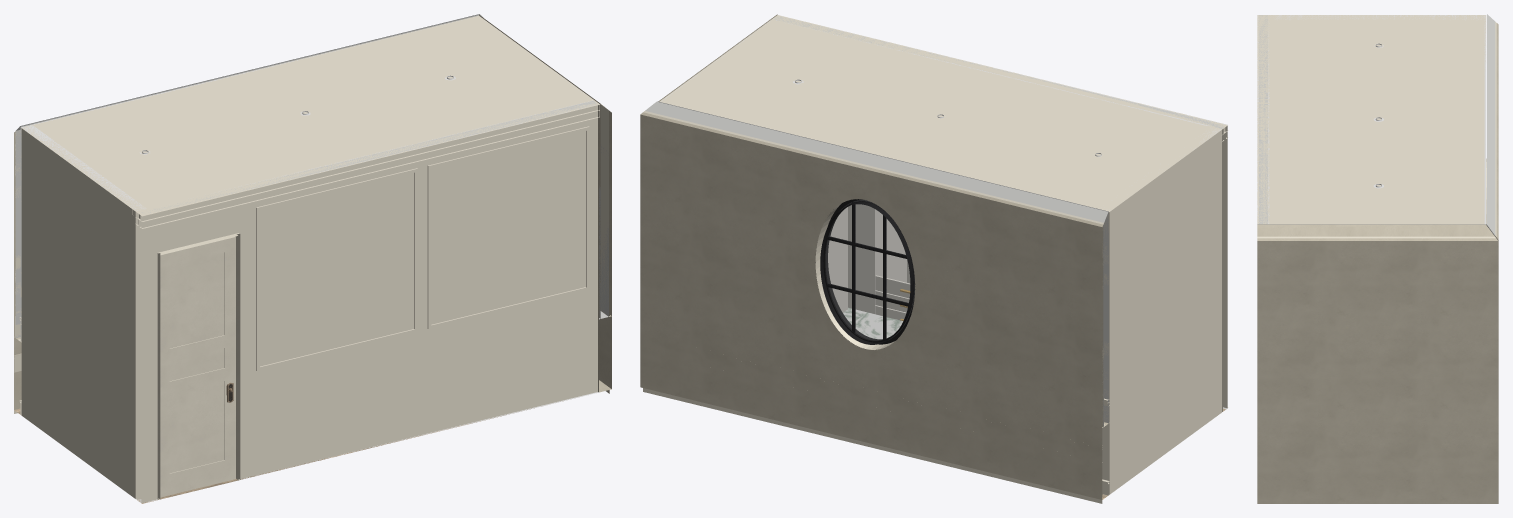
The model's file is primary-green-closet-a0bfe7a0425c.glb.
3 views of the same model, side by side, from view 1: azimuth 30°, elevation 25°; view 2: azimuth 150°, elevation 25°; view 3: azimuth 270°, elevation 25° (orthographic). The views are drawn at different scales.
Visible parts, largest first — view 1: primary-green-closet-21ac2ed1b4475155, primary-green-closet-9d91b47435c6fb33, primary-green-closet-95b94d4b81cfb474, primary-green-closet-b7a870a0f6b43c8c, primary-green-closet-8e484a943eae90b2, primary-green-closet-c5fd04e49693d8cd, primary-green-closet-780708765654f3c3, primary-green-closet-91eb0f90e9e94d87, primary-green-closet-08e5178be0cf1e43, primary-green-closet-3a163573517a0810, primary-green-closet-30f9d475162e2dd8, primary-green-closet-982e9316be37b1b4 (+2 smaller); view 2: primary-green-closet-3763e2fb8578d282, primary-green-closet-9d91b47435c6fb33, primary-green-closet-3a806c711886e947, primary-green-closet-95b94d4b81cfb474, primary-green-closet-f219c7bacf6b249f, primary-green-closet-91eb0f90e9e94d87, primary-green-closet-f386269db15356c9, primary-green-closet-1e29f5ba50d80e7e, primary-green-closet-21ac2ed1b4475155, primary-green-closet-2575515a05775d9e, primary-green-closet-feba501210e42be9, primary-green-closet-ddb0cf611f7c1133 (+4 smaller); view 3: primary-green-closet-adb6f49a6d2cbec3, primary-green-closet-9d91b47435c6fb33, primary-green-closet-16d9002bc6318568, primary-green-closet-791abe15be22adf2, primary-green-closet-21ac2ed1b4475155, primary-green-closet-91eb0f90e9e94d87, primary-green-closet-3a163573517a0810, primary-green-closet-92b1a6021e7b5e29, primary-green-closet-982e9316be37b1b4, primary-green-closet-2575515a05775d9e, primary-green-closet-30f9d475162e2dd8, primary-green-closet-3763e2fb8578d282 (+4 smaller).
Part boxes in pixels (<box>): primary-green-closet-21ac2ed1b4475155: <box>136,100,598,503</box>; primary-green-closet-9d91b47435c6fb33: <box>21,15,600,215</box>; primary-green-closet-95b94d4b81cfb474: <box>21,125,146,498</box>; primary-green-closet-b7a870a0f6b43c8c: <box>160,236,235,497</box>; primary-green-closet-8e484a943eae90b2: <box>427,126,589,329</box>; primary-green-closet-c5fd04e49693d8cd: <box>256,168,417,370</box>; primary-green-closet-780708765654f3c3: <box>157,233,240,499</box>; primary-green-closet-91eb0f90e9e94d87: <box>15,14,478,341</box>; primary-green-closet-08e5178be0cf1e43: <box>141,104,600,228</box>; primary-green-closet-3a163573517a0810: <box>132,98,592,224</box>; primary-green-closet-30f9d475162e2dd8: <box>600,104,609,316</box>; primary-green-closet-982e9316be37b1b4: <box>137,102,592,227</box>; primary-green-closet-3763e2fb8578d282: <box>642,112,1103,427</box>; primary-green-closet-9d91b47435c6fb33: <box>658,14,1227,212</box>; primary-green-closet-3a806c711886e947: <box>640,315,1109,499</box>; primary-green-closet-95b94d4b81cfb474: <box>1109,128,1221,494</box>; primary-green-closet-f219c7bacf6b249f: <box>826,200,914,340</box>; primary-green-closet-91eb0f90e9e94d87: <box>653,102,1108,426</box>; primary-green-closet-f386269db15356c9: <box>848,204,910,320</box>; primary-green-closet-1e29f5ba50d80e7e: <box>815,199,915,344</box>; primary-green-closet-21ac2ed1b4475155: <box>774,16,1227,412</box>; primary-green-closet-2575515a05775d9e: <box>643,388,1226,503</box>; primary-green-closet-feba501210e42be9: <box>828,207,847,312</box>; primary-green-closet-ddb0cf611f7c1133: <box>644,111,1103,424</box>; primary-green-closet-adb6f49a6d2cbec3: <box>1257,237,1498,432</box>; primary-green-closet-9d91b47435c6fb33: <box>1257,15,1486,224</box>; primary-green-closet-16d9002bc6318568: <box>1257,432,1498,501</box>; primary-green-closet-791abe15be22adf2: <box>1257,224,1495,236</box>; primary-green-closet-21ac2ed1b4475155: <box>1257,15,1269,223</box>; primary-green-closet-91eb0f90e9e94d87: <box>1486,14,1495,231</box>; primary-green-closet-3a163573517a0810: <box>1268,15,1275,224</box>; primary-green-closet-92b1a6021e7b5e29: <box>1260,24,1268,224</box>; primary-green-closet-982e9316be37b1b4: <box>1259,15,1266,224</box>; primary-green-closet-2575515a05775d9e: <box>1257,501,1498,503</box>; primary-green-closet-30f9d475162e2dd8: <box>1257,236,1496,238</box>; primary-green-closet-3763e2fb8578d282: <box>1496,23,1498,238</box>.
Size of the model in its own units: 4.95 by 2.95 by 2.34.
Materials: 22 (5 with a texture image).
